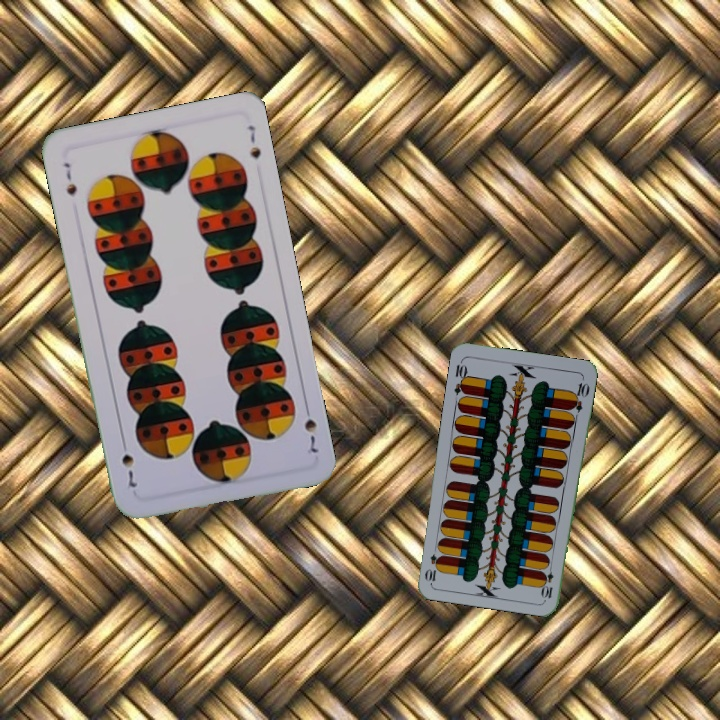E10: (450, 356, 470, 397), (540, 560, 556, 601)
S7: (300, 400, 321, 456), (59, 158, 80, 199)
